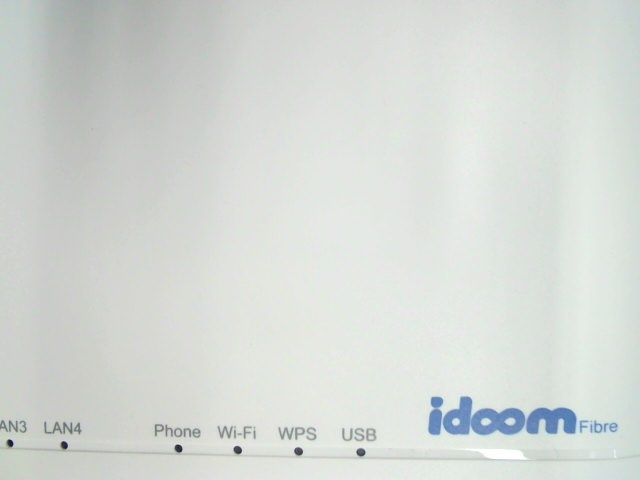BB_idoom: (421, 389, 618, 444)
